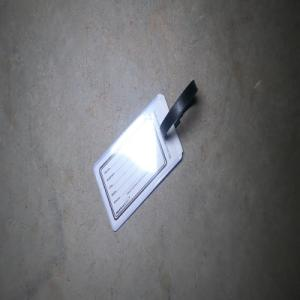LuggageTag: (91, 77, 199, 232)
